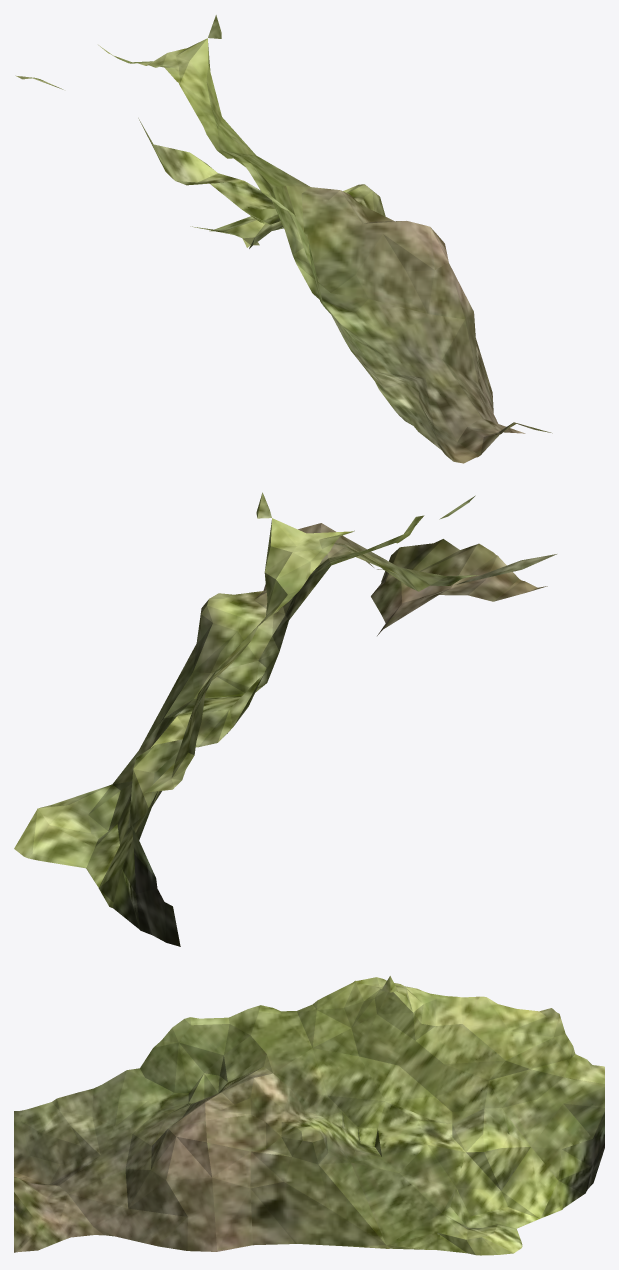
The picture shows the model from 3 angles, top to bottom: view 1: azimuth 30°, elevation 25°; view 2: azimuth 150°, elevation 25°; view 3: azimuth 270°, elevation 25°; orthographic projection. The views are drawn at different scales.
Size of the model in its own units: 0.9132 by 1.24 by 2.95.
2 materials, 2 textured.
